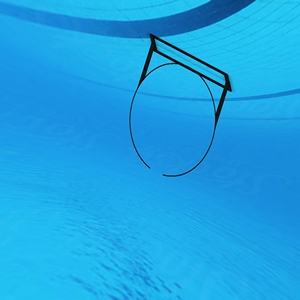circle: (126, 33, 236, 179)
